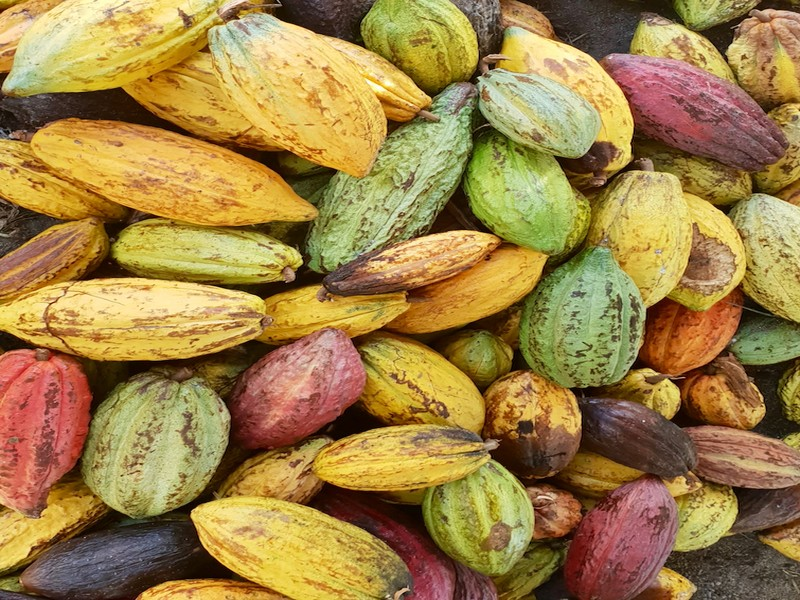Cacaopod: (206, 15, 389, 174), (1, 278, 274, 363)
